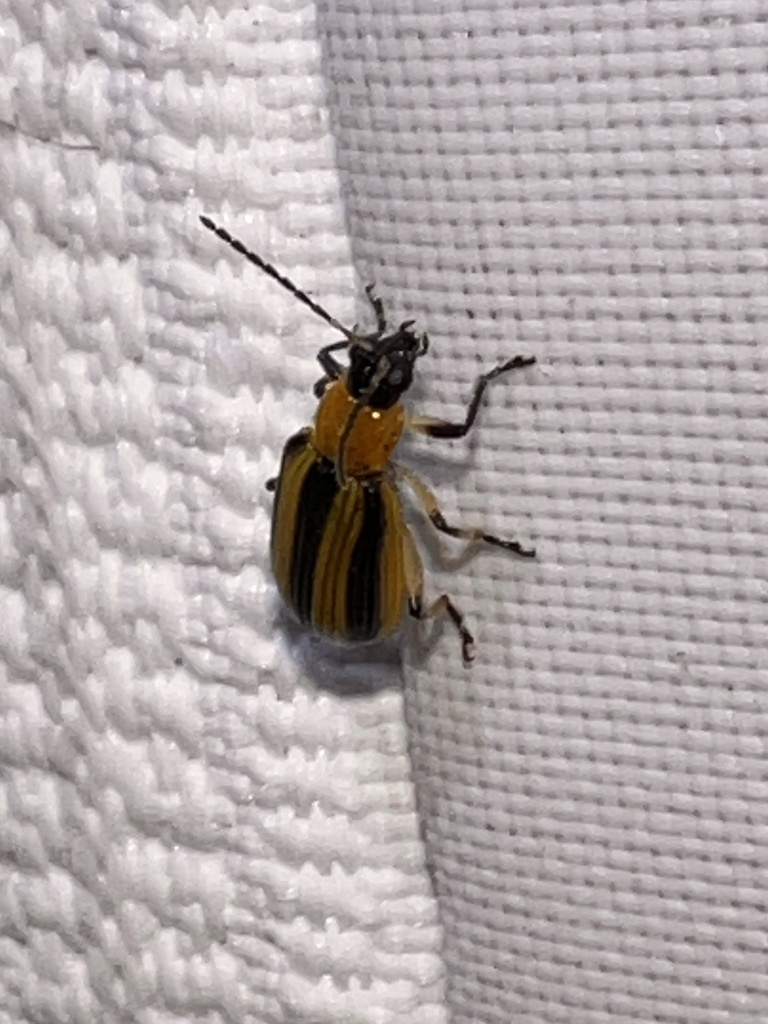potato_beetle: (95, 137, 629, 756)
